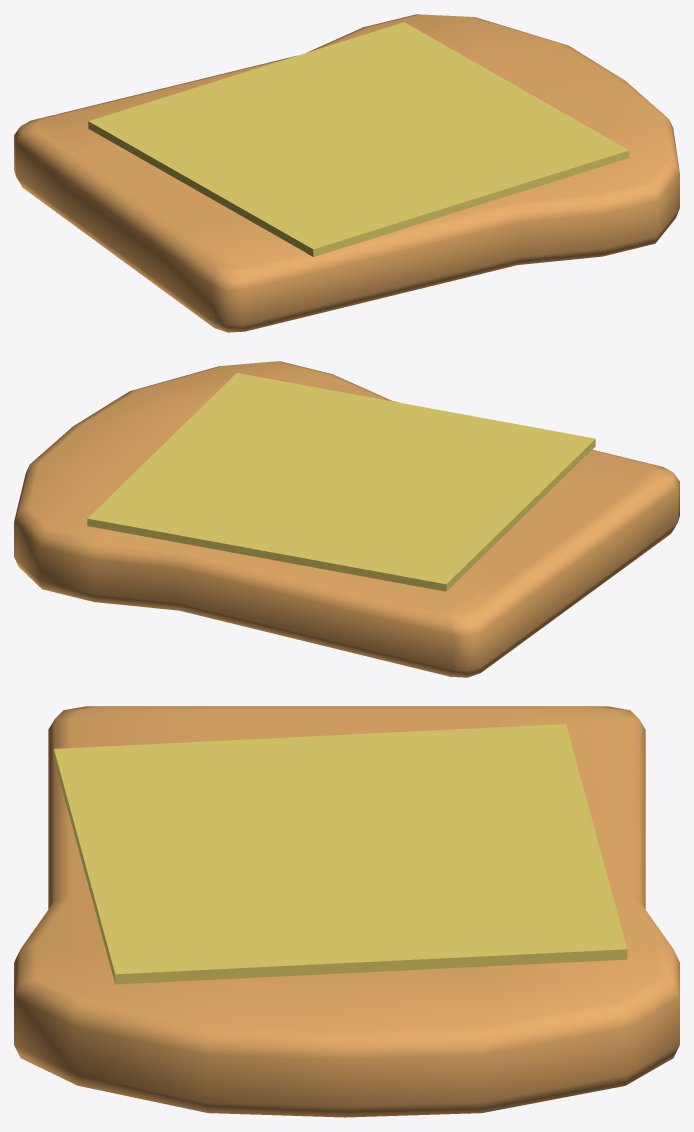
Rendered from sandwich.fbx.
3 renders of one model, top to bottom at view 1: azimuth 30°, elevation 25°; view 2: azimuth 150°, elevation 25°; view 3: azimuth 270°, elevation 25°, orthographic. The views are drawn at different scales.
Visible parts, largest first — view 1: Cube.001; view 2: Cube.001; view 3: Cube.001.
Part boxes in pixels (x1=…): Cube.001: x1=14, y1=14, x2=679, y2=332; Cube.001: x1=14, y1=361, x2=679, y2=677; Cube.001: x1=14, y1=706, x2=679, y2=1117.
Bounding box in the file's own units: 468 × 60.68 × 384.
